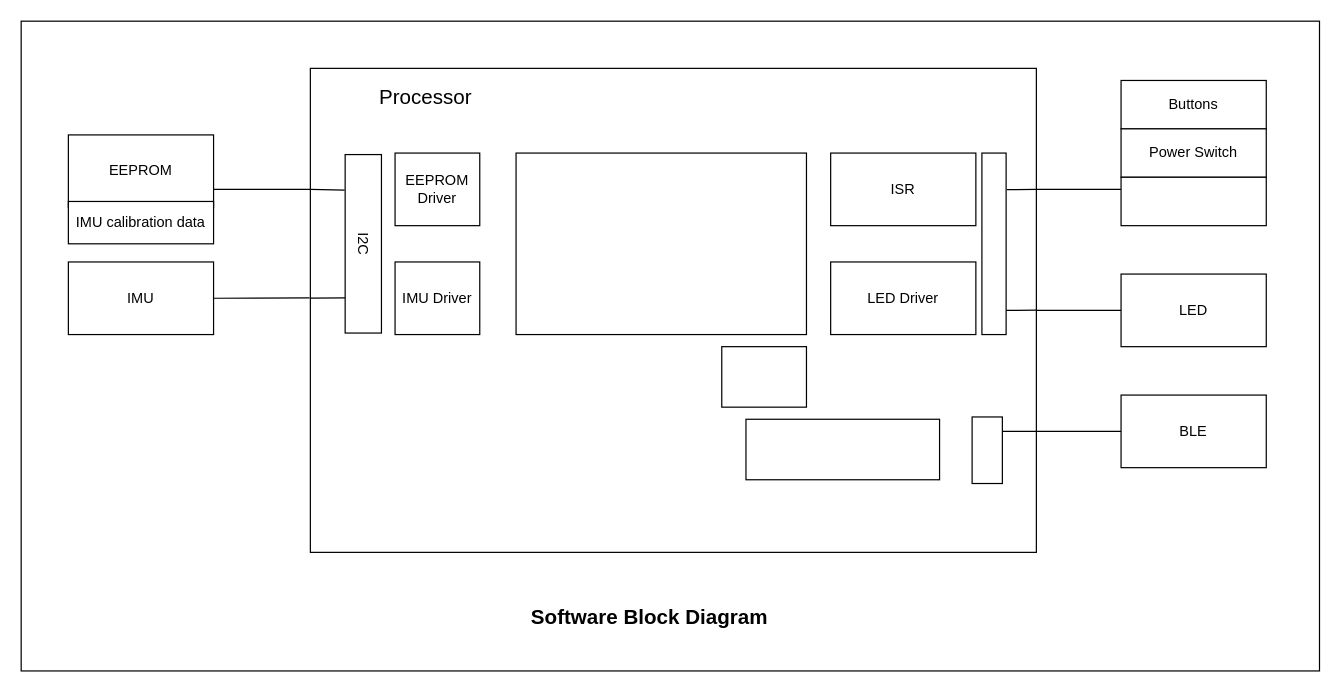
Some shapes in this 1341 by 692 pixel diagram are drawn without their labels. The shapes that lost their labels are listed below. From the top down, each one's centre as x and y in pixels, then its label:
At (x=1193, y=201): "User Control".
At (x=660, y=243): "IMU Data Processor".
At (x=993, y=243): "GPIO".
At (x=763, y=376): "Processed IMU values".
At (x=842, y=449): "BLE Driver".
At (x=986, y=450): "SPI".
